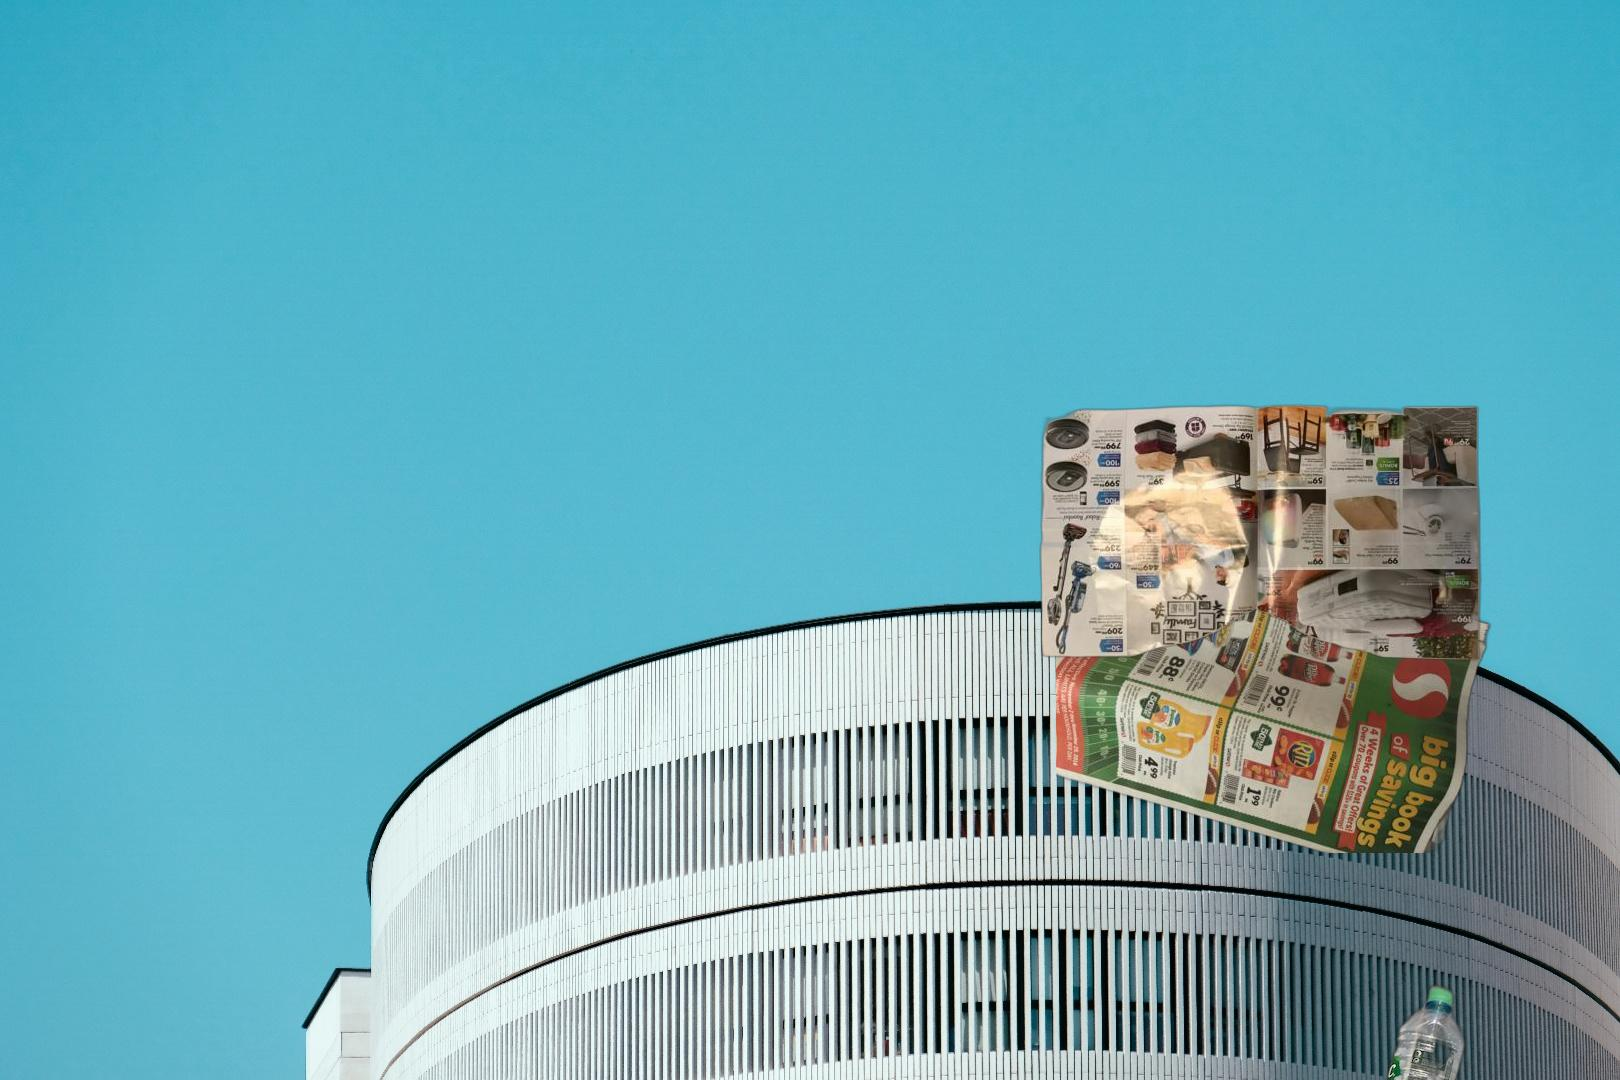paper: (1056, 518, 1495, 853), (1035, 401, 1485, 662)
plastic-bottles: (1344, 952, 1469, 1080)
